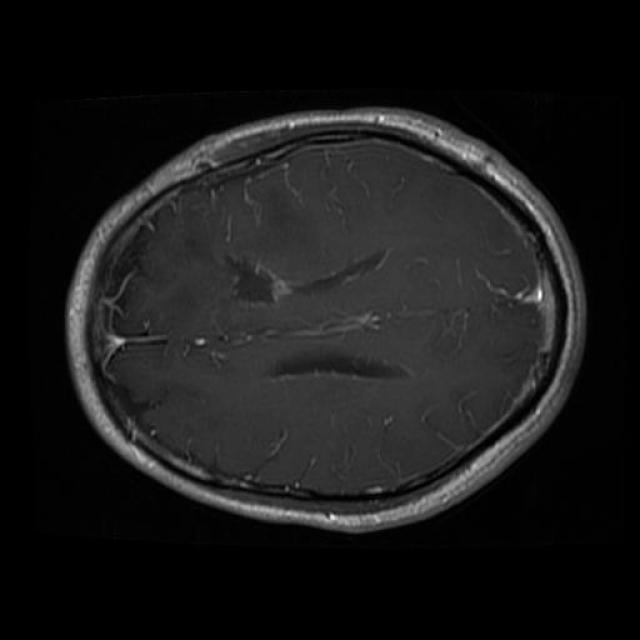Glioma: (226, 256, 292, 302)
